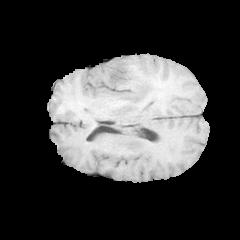glioma: (96, 59, 158, 107)
